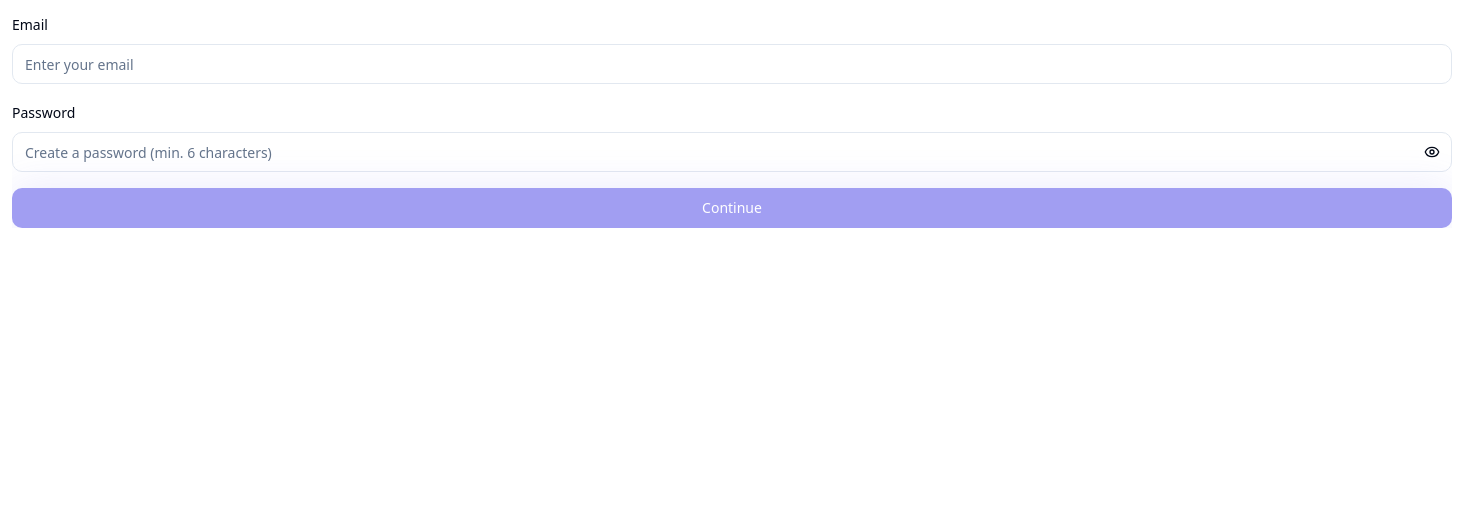
SignUpForm › Step 1: Email and Password › proceeds to next step when valid data is entered
Type "test@example.com" into the field labelled "Email" at [732, 64], box [12,44,1452,84]
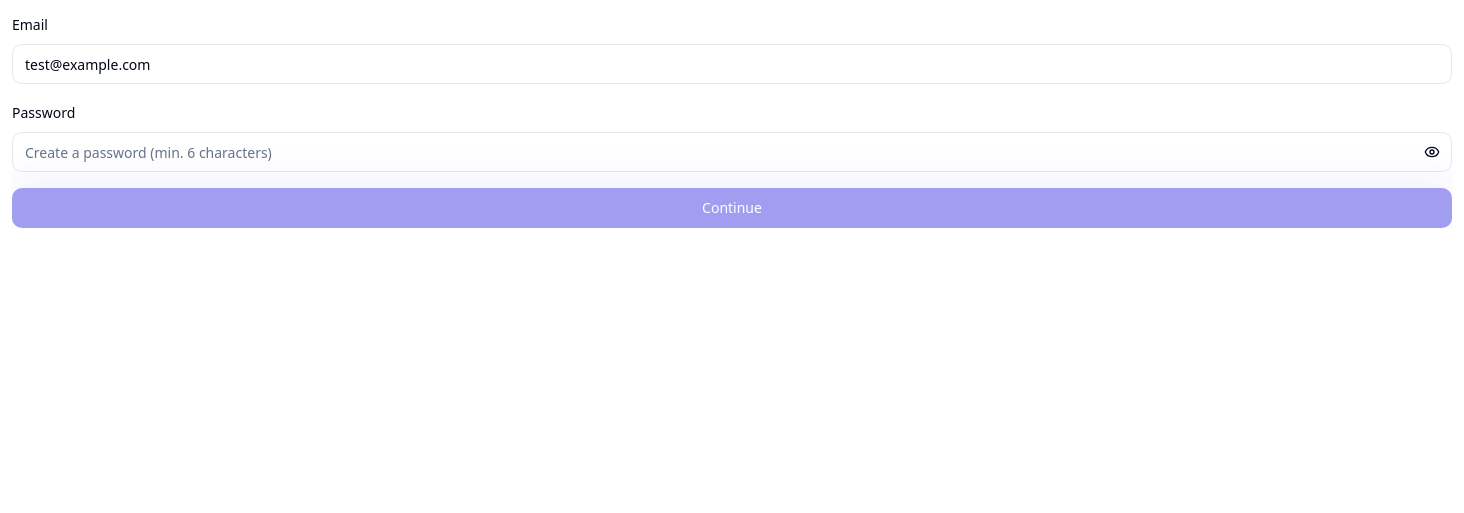
Type "password123" into the password field labelled "Password" at [732, 152], box [12,132,1452,172]
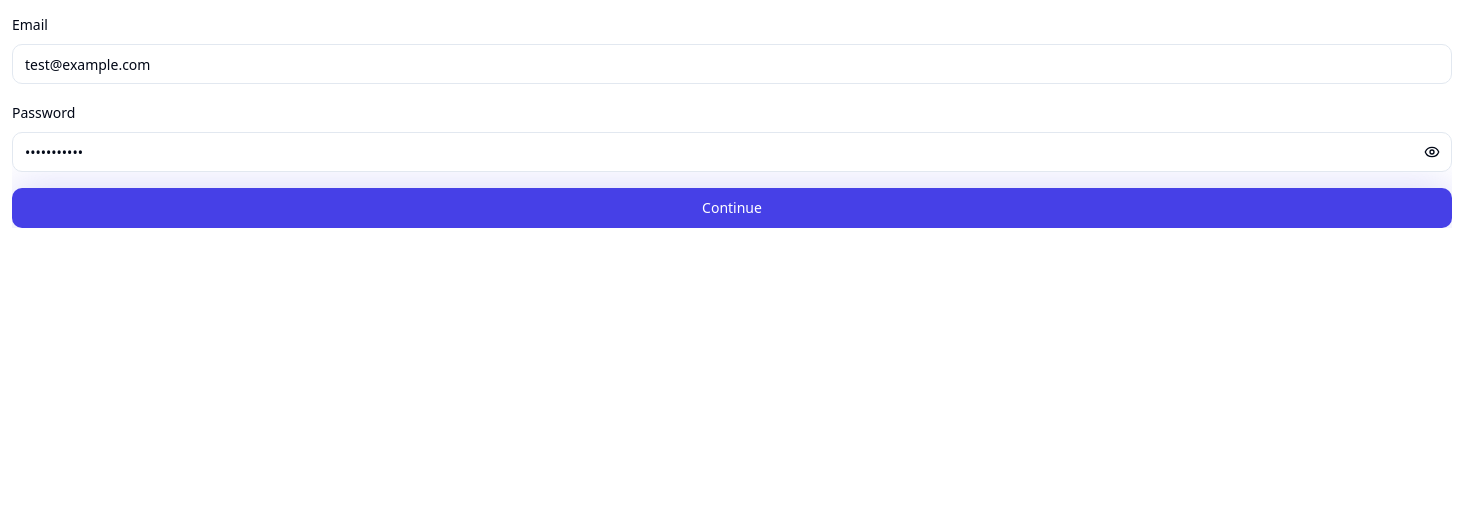
Click the button "Continue" at [732, 208], box [12,188,1452,228]
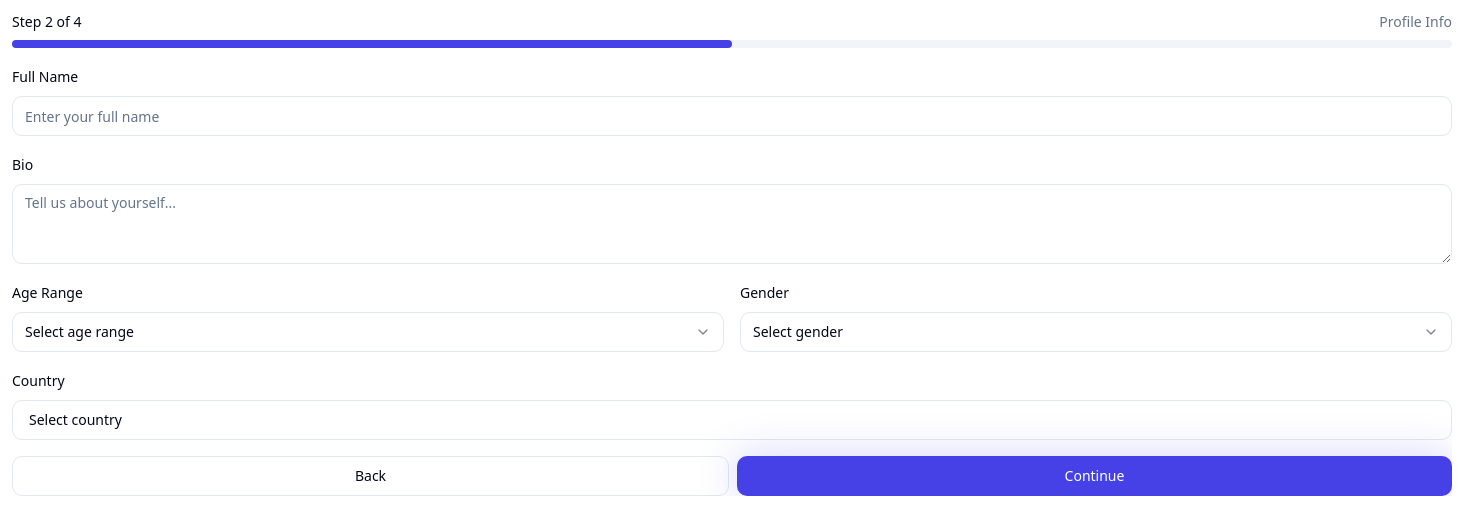
Check: the text "Step 2 of 4" is shown, box [12,12,82,32]
